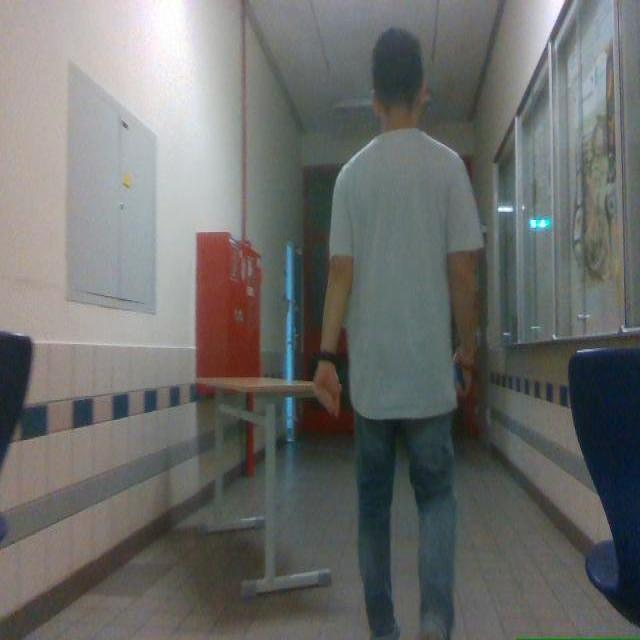humans: (314, 28, 482, 639)
objects: (196, 376, 330, 597), (569, 350, 639, 623), (196, 232, 261, 377), (0, 332, 31, 470), (454, 364, 480, 437), (454, 363, 464, 394), (0, 515, 7, 542)
